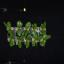leaf: (2, 22, 12, 28), (16, 20, 22, 28), (16, 40, 22, 48), (32, 30, 38, 38), (35, 35, 43, 41), (8, 40, 14, 47), (40, 30, 47, 36), (26, 40, 30, 49), (45, 34, 51, 40), (25, 22, 30, 29), (41, 22, 46, 29), (8, 34, 15, 39), (32, 40, 37, 47), (32, 23, 37, 30), (8, 29, 14, 34), (24, 30, 29, 36), (40, 40, 45, 46), (17, 30, 21, 36), (18, 36, 24, 39)
